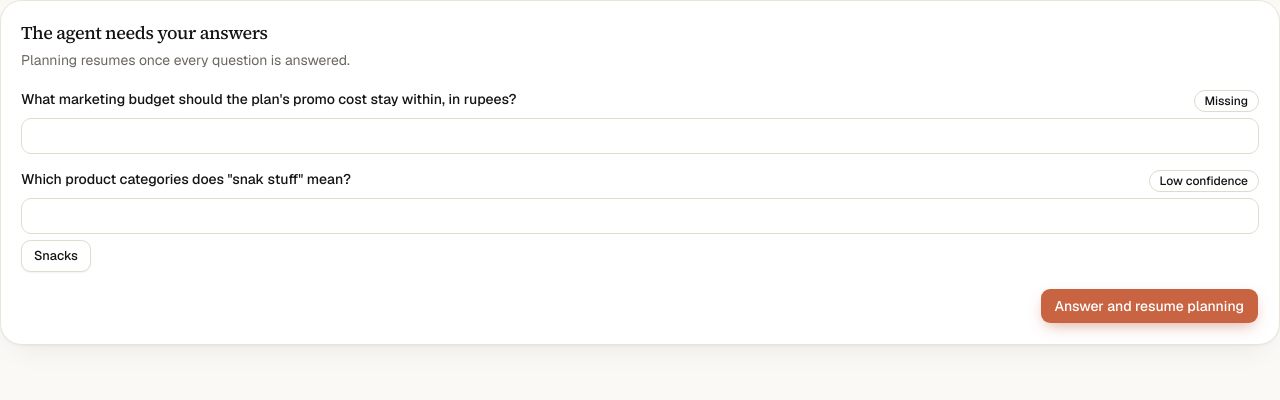
Test: ClarificationForm › shows why the answers were not taken and keeps them for another try
In the field labelled "What marketing budget should the plan's promo cost stay within, in rupees?": (640,136) [21,118,1259,154], type "₹2 lakh"
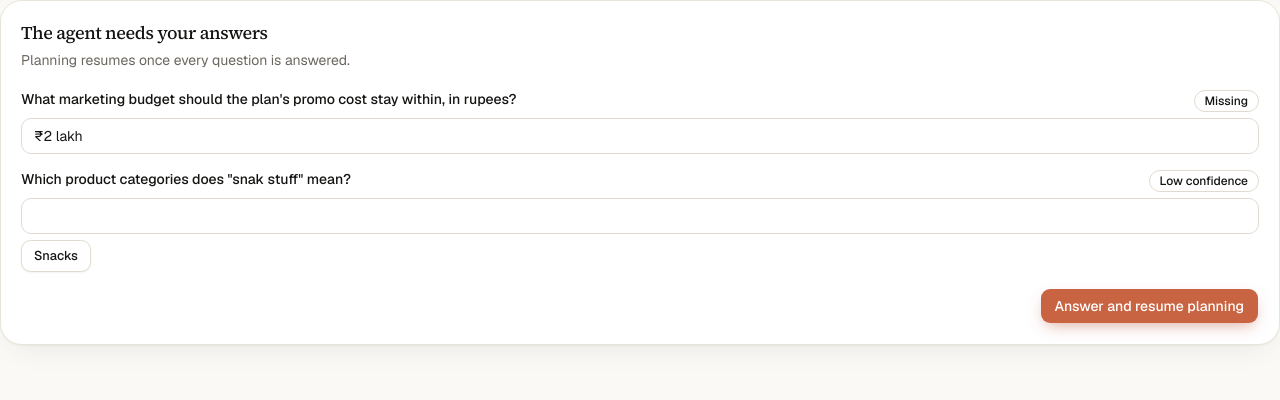
In the field labelled "Which product categories does \"snak stuff\" mean?": (640,216) [21,198,1259,234], type "Snacks"
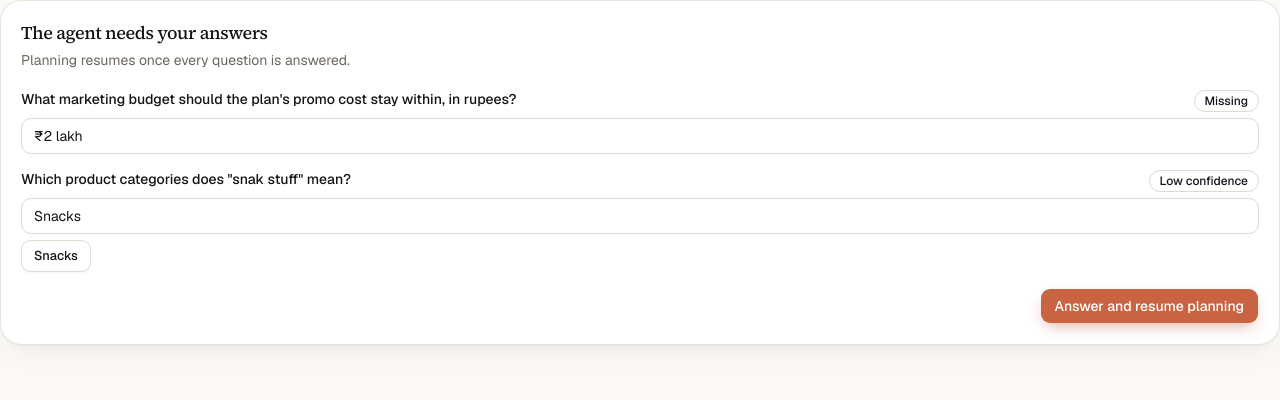
Click the button "Answer and resume planning": (1149,306) [1040,288,1259,324]
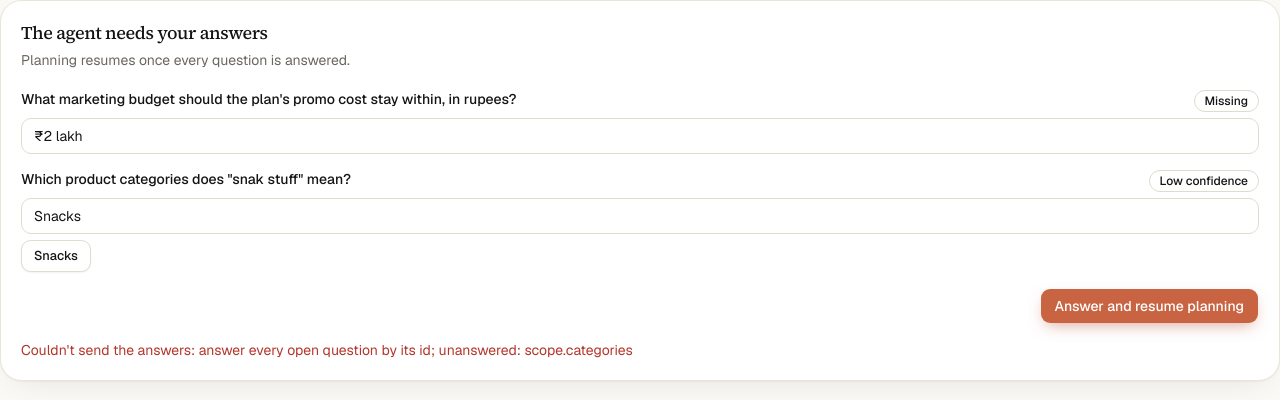
Check: the message shows "Couldn't send the answers: answer every open question by its id; unanswered: scope.categories", box [21,341,633,359]
